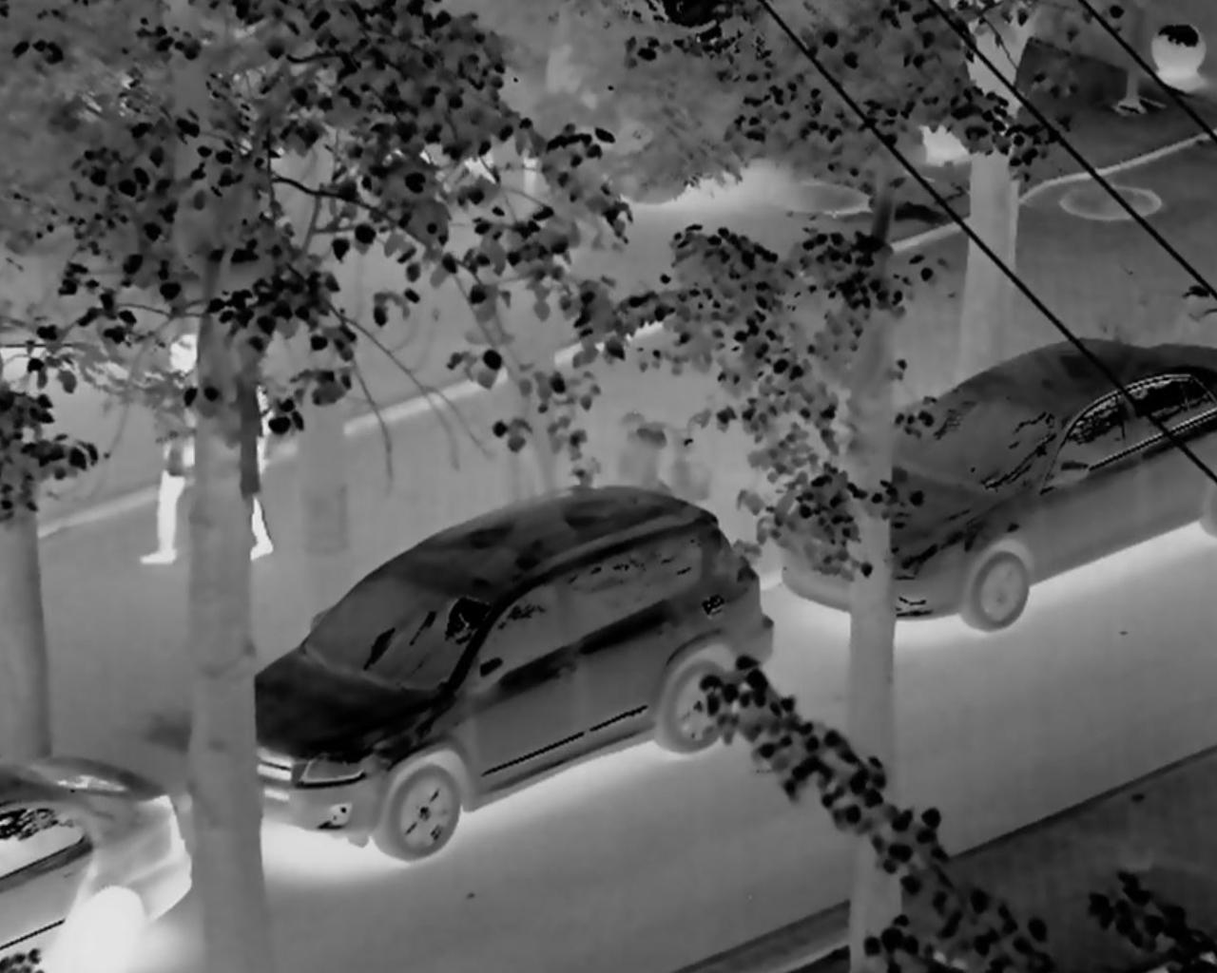person: (153, 319, 221, 563)
